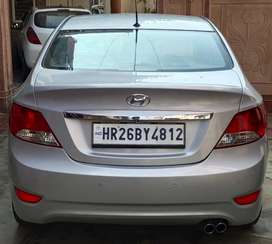HR26BY4812: (93, 123, 184, 144)
